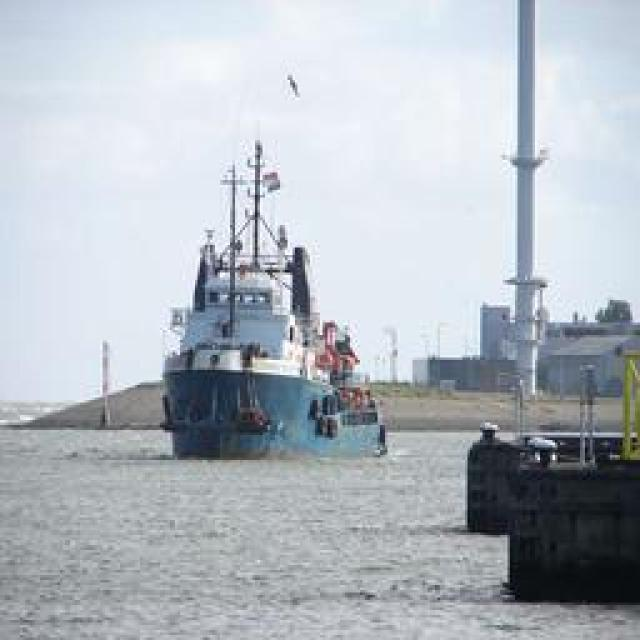ship: (158, 111, 398, 461)
